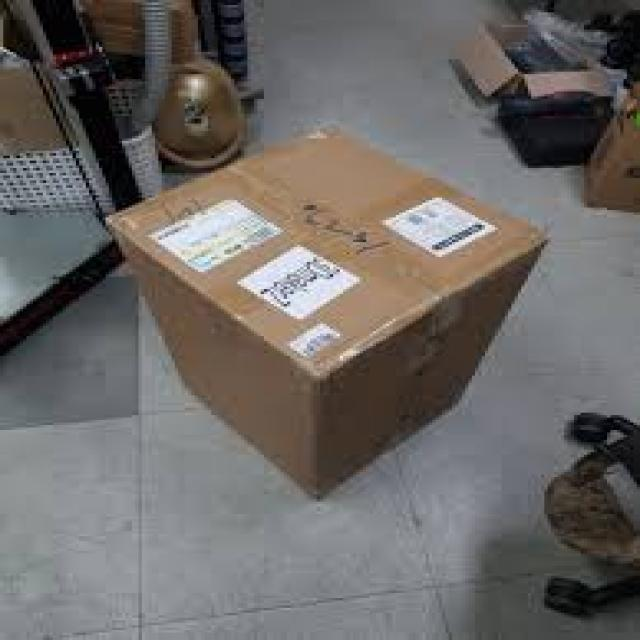box: (104, 120, 553, 504)
